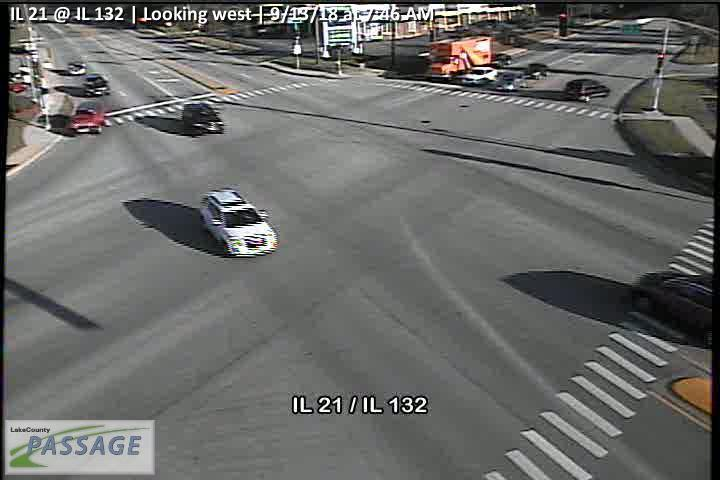SUV: (628, 270, 715, 347), (200, 187, 279, 259), (182, 102, 225, 137), (65, 100, 107, 134), (561, 78, 611, 102), (82, 73, 110, 96)
Sedan: (461, 65, 498, 84), (495, 71, 529, 90), (527, 62, 551, 80), (495, 52, 512, 67)
Truck: (426, 34, 492, 83)
